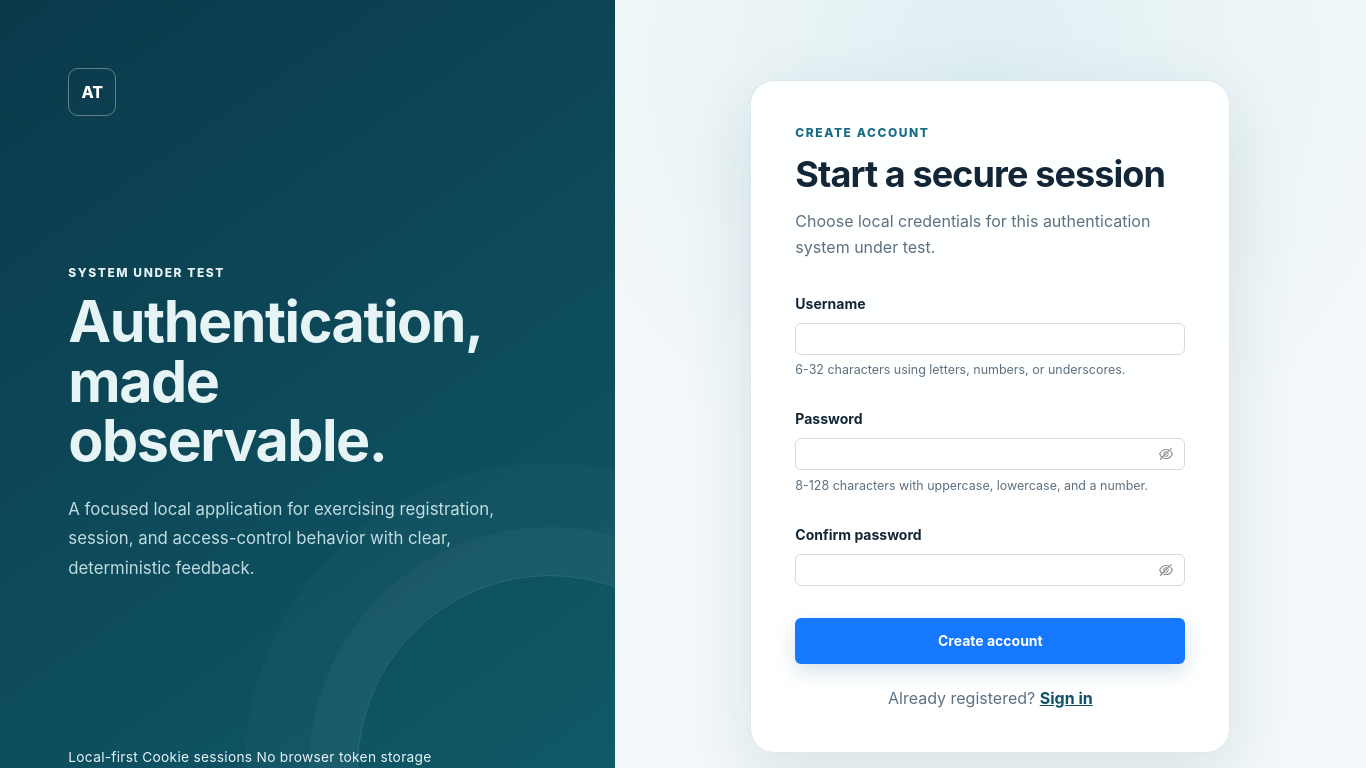
authentication forms › requires all registration fields
Expected: the heading "Start a secure session" is shown, top-left (795, 152), bottom-right (1185, 196)
Click the button "Create account".
click(990, 641)  # box top-left (795, 618), bottom-right (1185, 664)
(page scrolled)
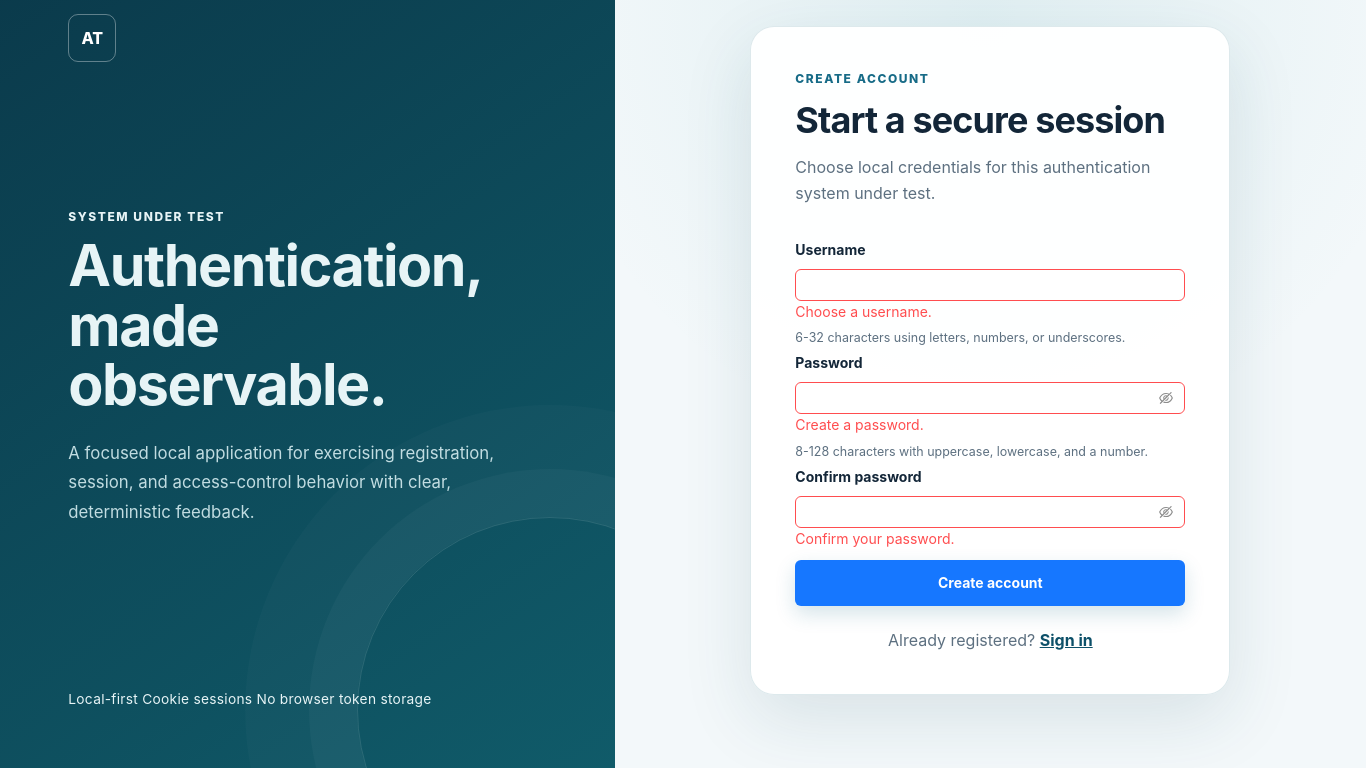
Result: the text "Choose a username." is shown at top-left (795, 303), bottom-right (932, 320)
Result: the text "Create a password." is shown at top-left (795, 416), bottom-right (924, 433)
Result: the text "Confirm your password." is shown at top-left (795, 530), bottom-right (954, 547)
